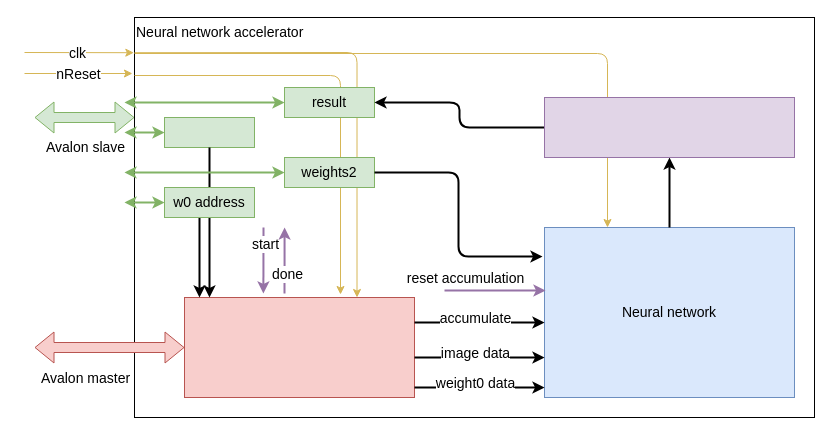
Some shapes in this 832 by 435 pixel diagram are drawn without their labels. The box of each missing label's shape, as (x1, y1, x2, y2) in pixels:
Argmax: (544, 96, 794, 158)
DMA unit: (184, 296, 414, 398)
input address: (164, 116, 254, 148)
